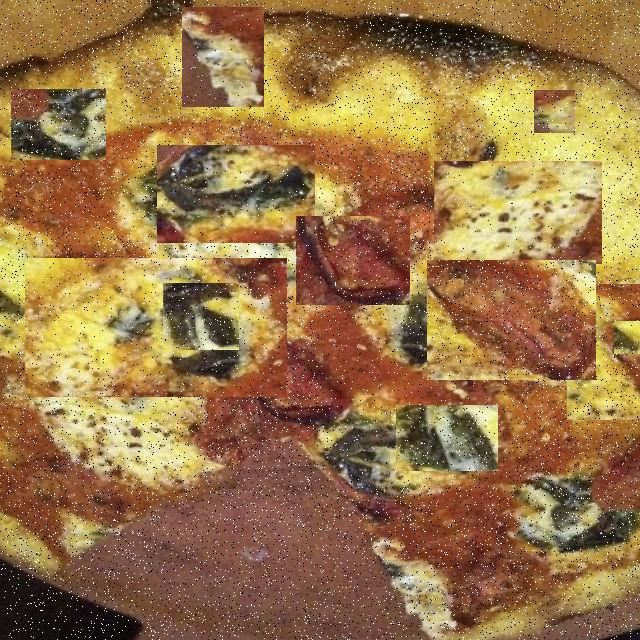Basil: (167, 167, 309, 218), (11, 89, 106, 160), (396, 405, 498, 471), (163, 283, 239, 350), (614, 321, 640, 354)
Cheese: (25, 258, 287, 397), (318, 324, 516, 486), (434, 161, 602, 264), (157, 145, 315, 243), (0, 74, 118, 166), (567, 284, 640, 420), (182, 7, 264, 107), (534, 90, 575, 133)
Onions: (428, 260, 598, 380), (296, 216, 410, 305)
Pizza: (0, 0, 640, 640)
